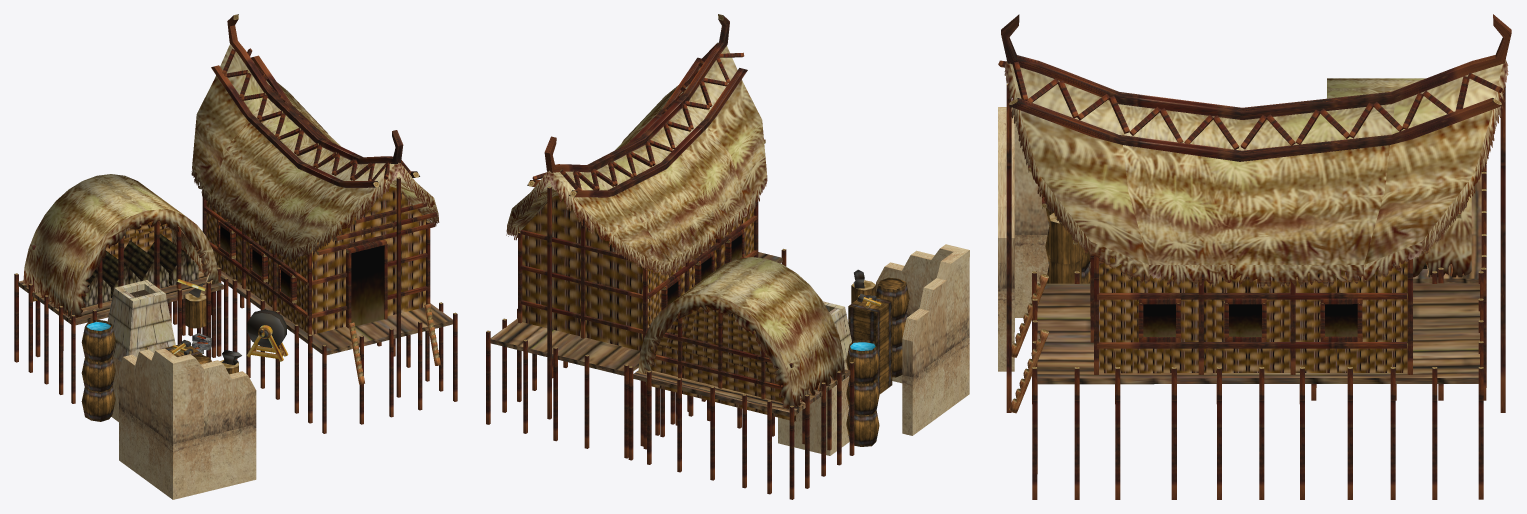
Rendered from forge.dae.
3 views of the same model, side by side, from view 1: azimuth 30°, elevation 25°; view 2: azimuth 150°, elevation 25°; view 3: azimuth 270°, elevation 25° (orthographic). The views are drawn at different scales.
Parts seen in each view (by area): view 1: forge; view 2: forge; view 3: forge.
Part boxes in pixels (box(x1,y1,x2,y2)): forge: box(14, 14, 457, 499); forge: box(486, 14, 969, 499); forge: box(998, 14, 1511, 499).
Bounding box in the file's own units: 19.36 × 19.38 × 19.18.
